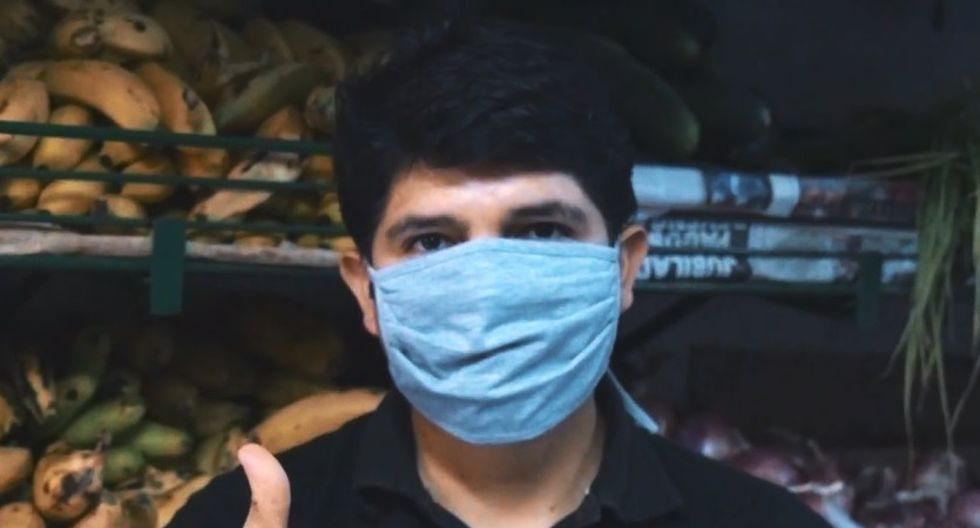with_mask: (350, 121, 648, 443)
